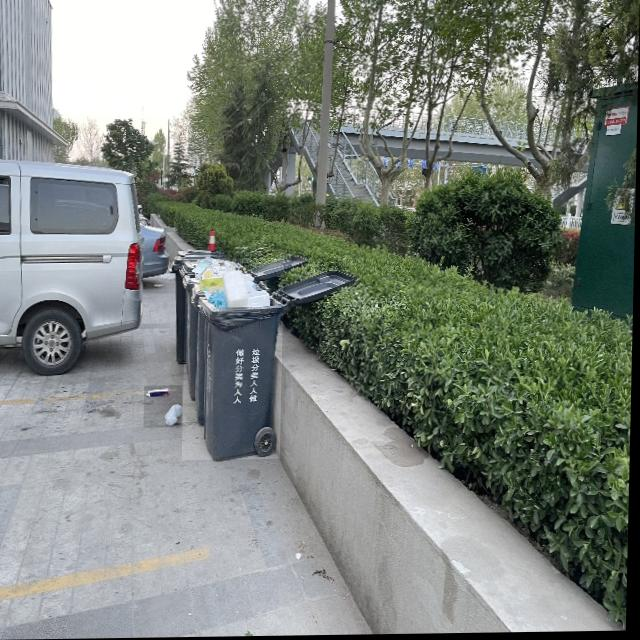garbage: (145, 386, 184, 428)
overflow: (184, 259, 285, 461)
